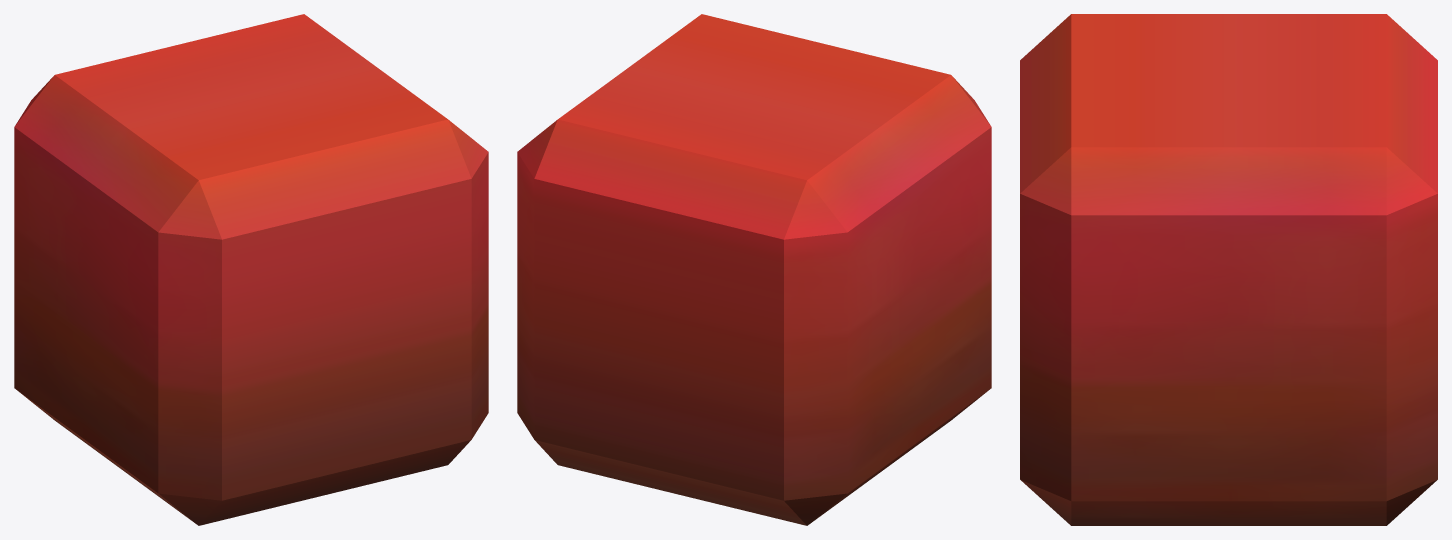
Rendered from 03ccb7fb-69ab-48f3-95a4-28df5e00301d.glb.
3 views of the same model, side by side, from view 1: azimuth 30°, elevation 25°; view 2: azimuth 150°, elevation 25°; view 3: azimuth 270°, elevation 25° (orthographic). The views are drawn at different scales.
Visible parts, largest first — view 1: CyberPunkCubeShapeA.002; view 2: CyberPunkCubeShapeA.002; view 3: CyberPunkCubeShapeA.002.
Part boxes in pixels (bbox=[...]): CyberPunkCubeShapeA.002: bbox=[14, 14, 488, 525]; CyberPunkCubeShapeA.002: bbox=[517, 14, 991, 525]; CyberPunkCubeShapeA.002: bbox=[1020, 14, 1437, 525].
Size of what is drawn, in the model's own units: 0.7462 by 0.7462 by 0.7462.
1 material, 1 textured.
